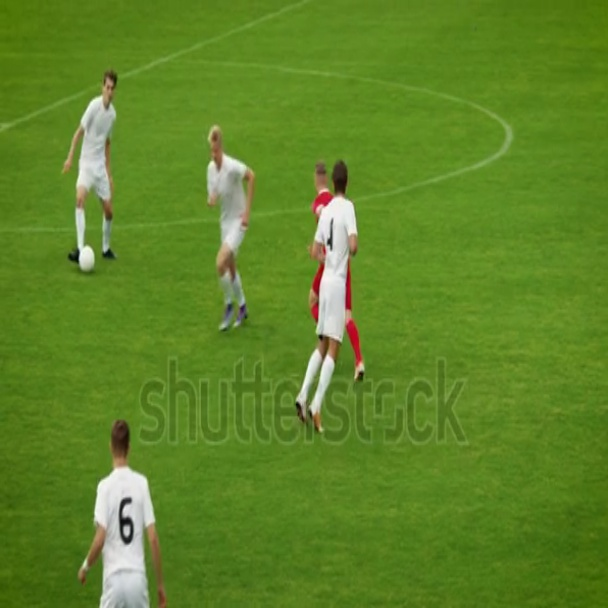ball: (79, 244, 96, 273)
